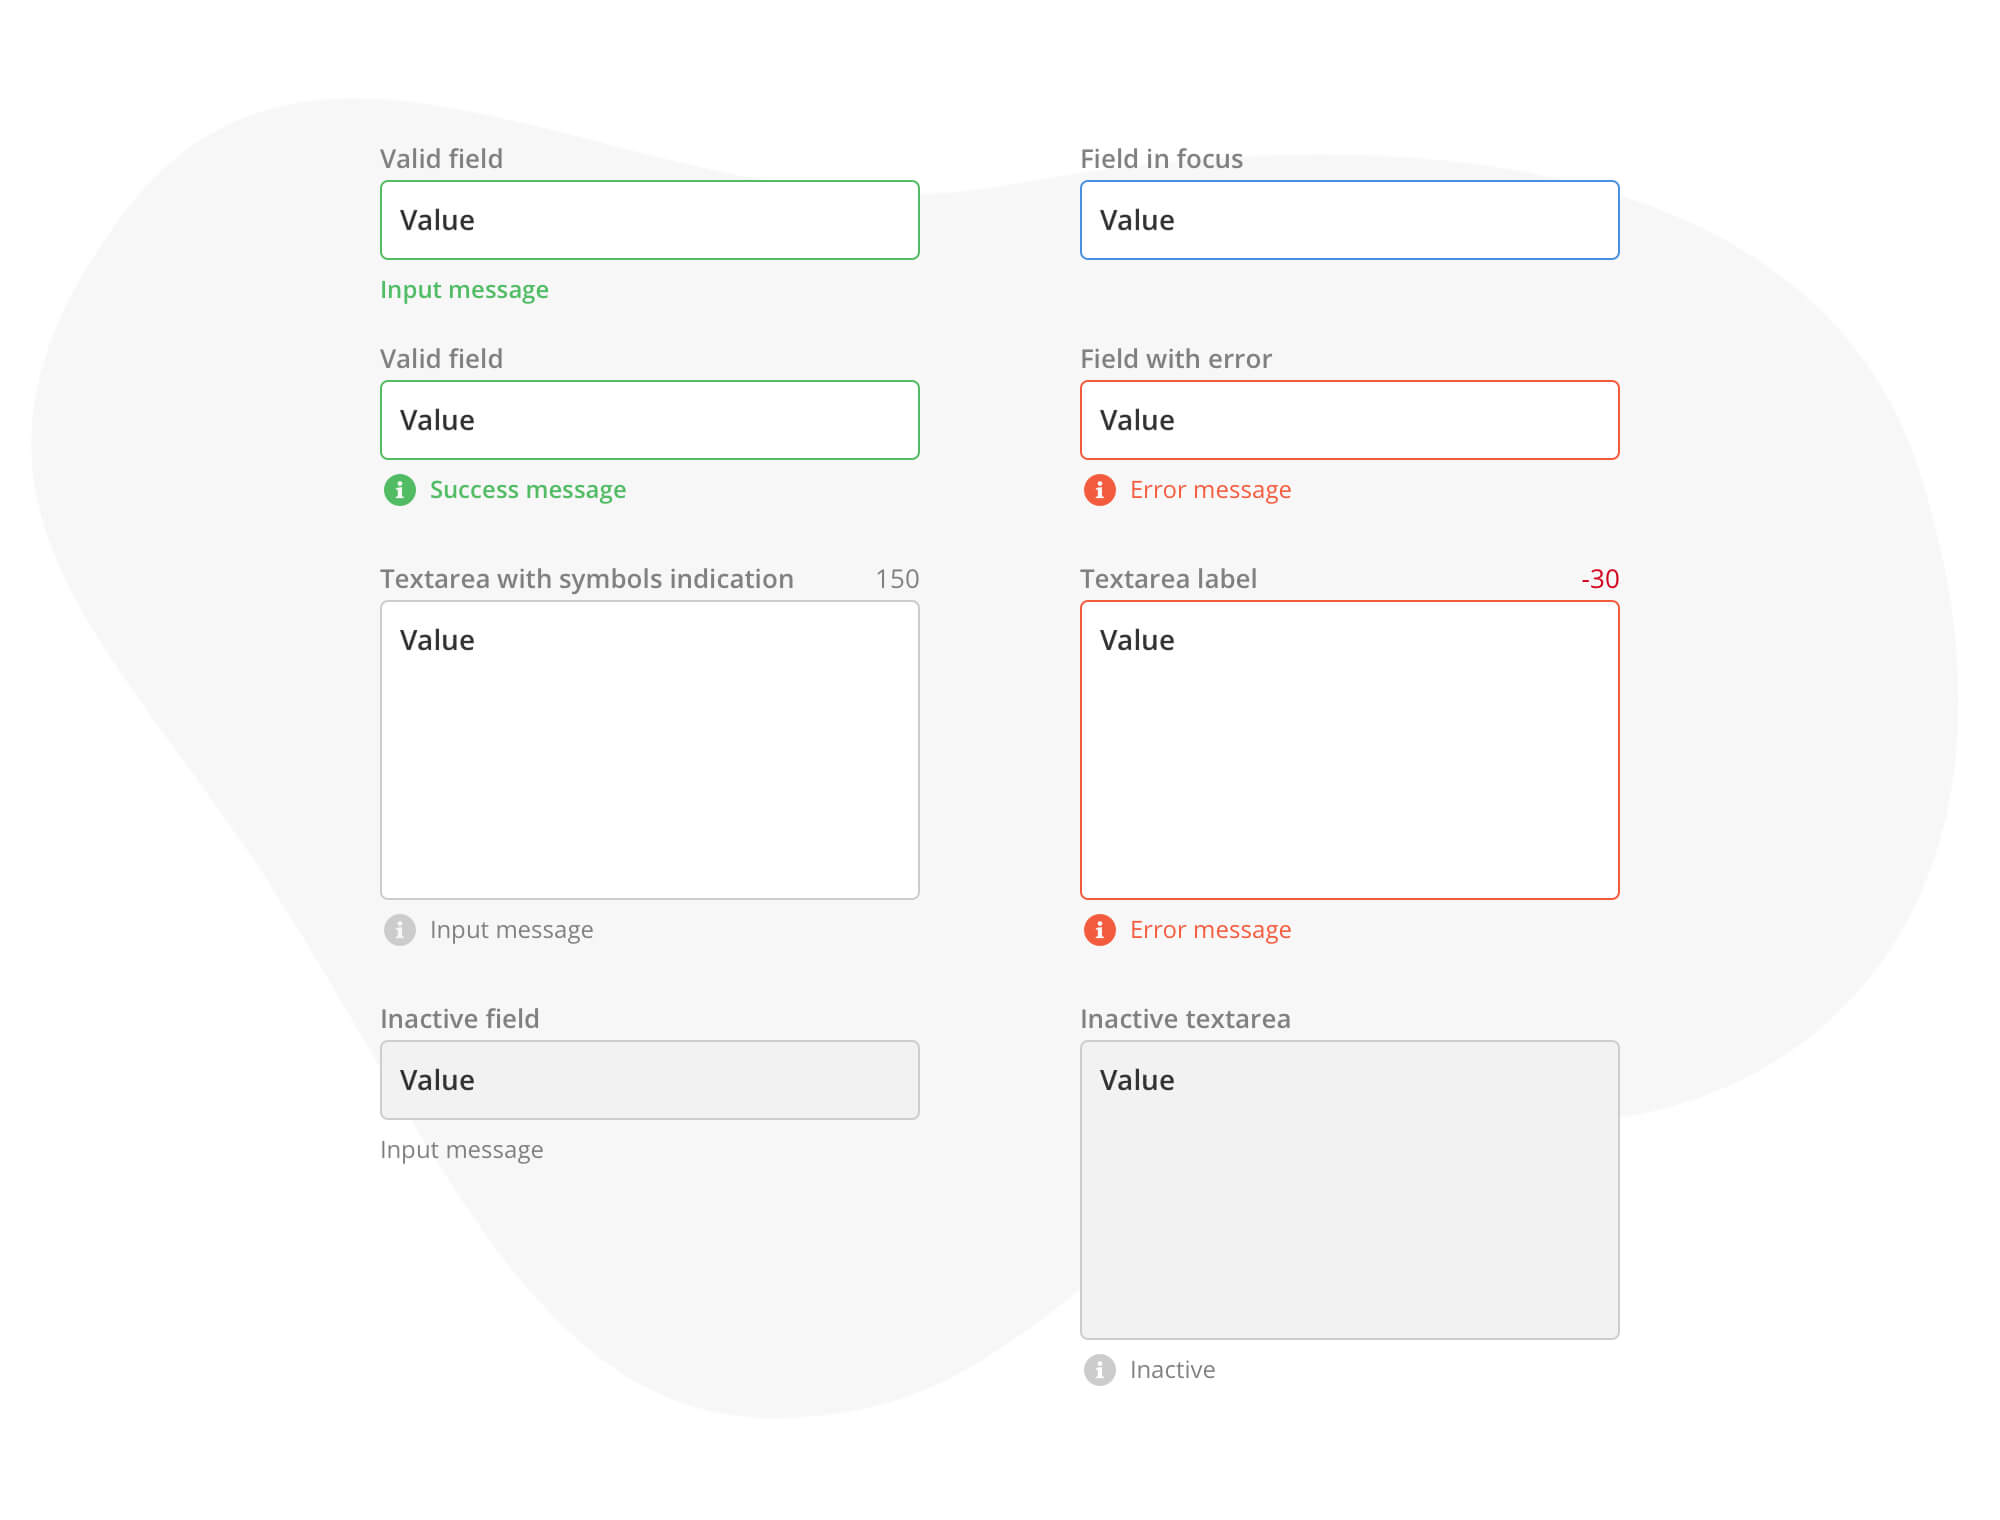_form_: (351, 557, 982, 1166), (1023, 800, 1676, 1383), (361, 129, 950, 565), (1047, 123, 1636, 559), (1047, 544, 1636, 980)
field: (1074, 596, 1622, 902), (1077, 1036, 1622, 1344), (381, 599, 921, 902), (1074, 375, 1625, 461), (377, 1036, 926, 1122), (378, 378, 926, 463), (1074, 180, 1623, 263), (377, 177, 923, 260)
field_with_label: (1073, 1004, 1628, 1352), (372, 565, 931, 908), (1068, 564, 1630, 901), (372, 342, 931, 466), (372, 1003, 931, 1127), (1068, 144, 1628, 267), (372, 144, 927, 263), (1065, 346, 1626, 465)
